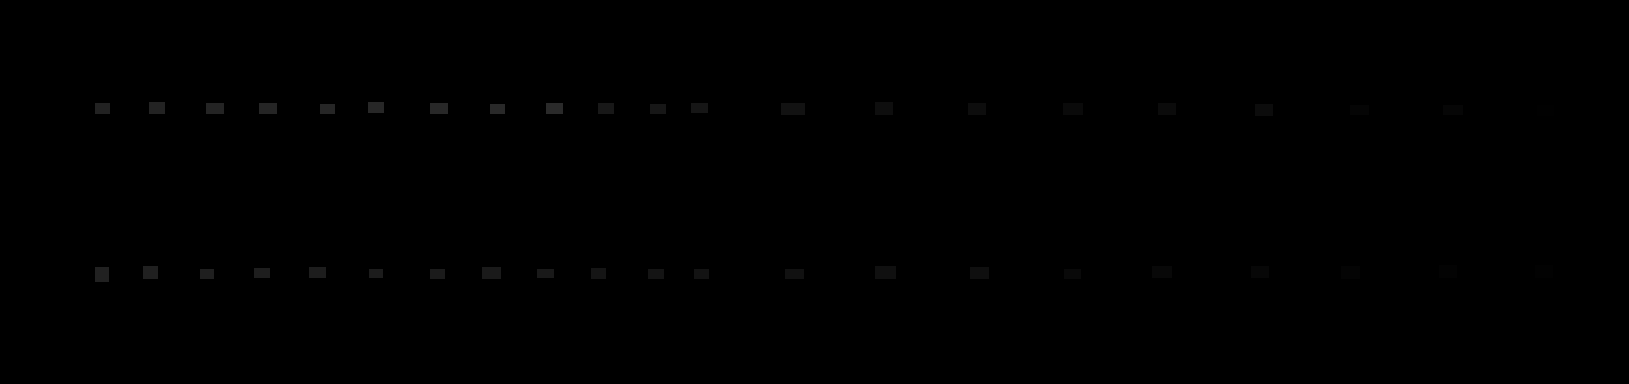light: (781, 103, 805, 115), (875, 266, 896, 279), (1341, 266, 1360, 279), (875, 102, 893, 115), (1152, 266, 1172, 278), (1063, 103, 1083, 115), (1535, 265, 1553, 278), (1439, 265, 1457, 278), (970, 267, 989, 279), (482, 267, 501, 279), (95, 267, 109, 282), (1251, 266, 1269, 278), (1158, 103, 1176, 115), (1255, 104, 1273, 116), (968, 103, 986, 115), (206, 103, 224, 114), (259, 103, 277, 114), (149, 102, 165, 114), (1350, 105, 1369, 115), (1443, 105, 1463, 115), (1537, 105, 1554, 116), (309, 267, 326, 278), (430, 103, 448, 114), (143, 266, 158, 279), (785, 269, 804, 279), (368, 102, 384, 113), (546, 103, 563, 114), (1064, 269, 1081, 279), (598, 103, 614, 114), (95, 103, 110, 114), (691, 103, 707, 113), (253, 268, 270, 278), (591, 268, 606, 279), (648, 269, 664, 279), (650, 104, 666, 114), (537, 269, 554, 278), (694, 269, 709, 279), (430, 269, 445, 279), (320, 104, 335, 114), (490, 104, 505, 114), (201, 269, 214, 279), (369, 269, 383, 278)
